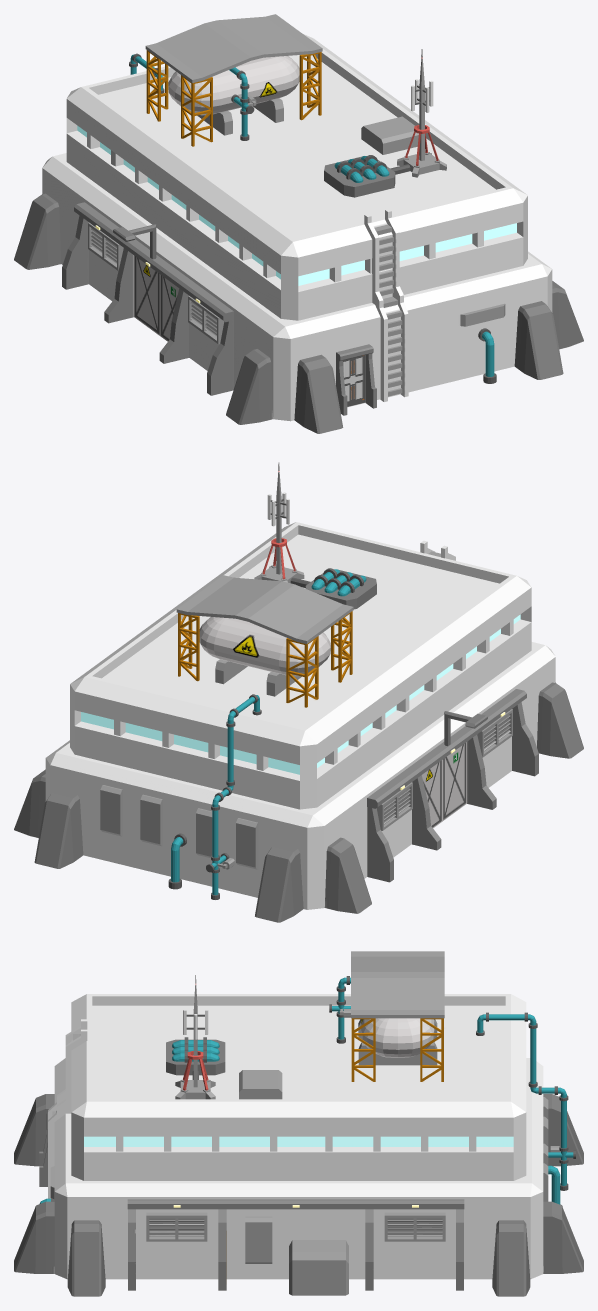
Rendered from low_poly_service_building.glb.
3 renders of one model, top to bottom at view 1: azimuth 30°, elevation 25°; view 2: azimuth 150°, elevation 25°; view 3: azimuth 270°, elevation 25°, orthographic.
Visible parts, largest first — view 1: service_building_1_; view 2: service_building_1_; view 3: service_building_1_.
Boxes of the visible parts, x1,y1,x2,y2 form: service_building_1_: [14, 14, 583, 433]; service_building_1_: [14, 462, 583, 922]; service_building_1_: [14, 951, 583, 1296].
Size of the model in its own units: 4.27 by 3.15 by 5.94.
2 materials, 1 textured.
